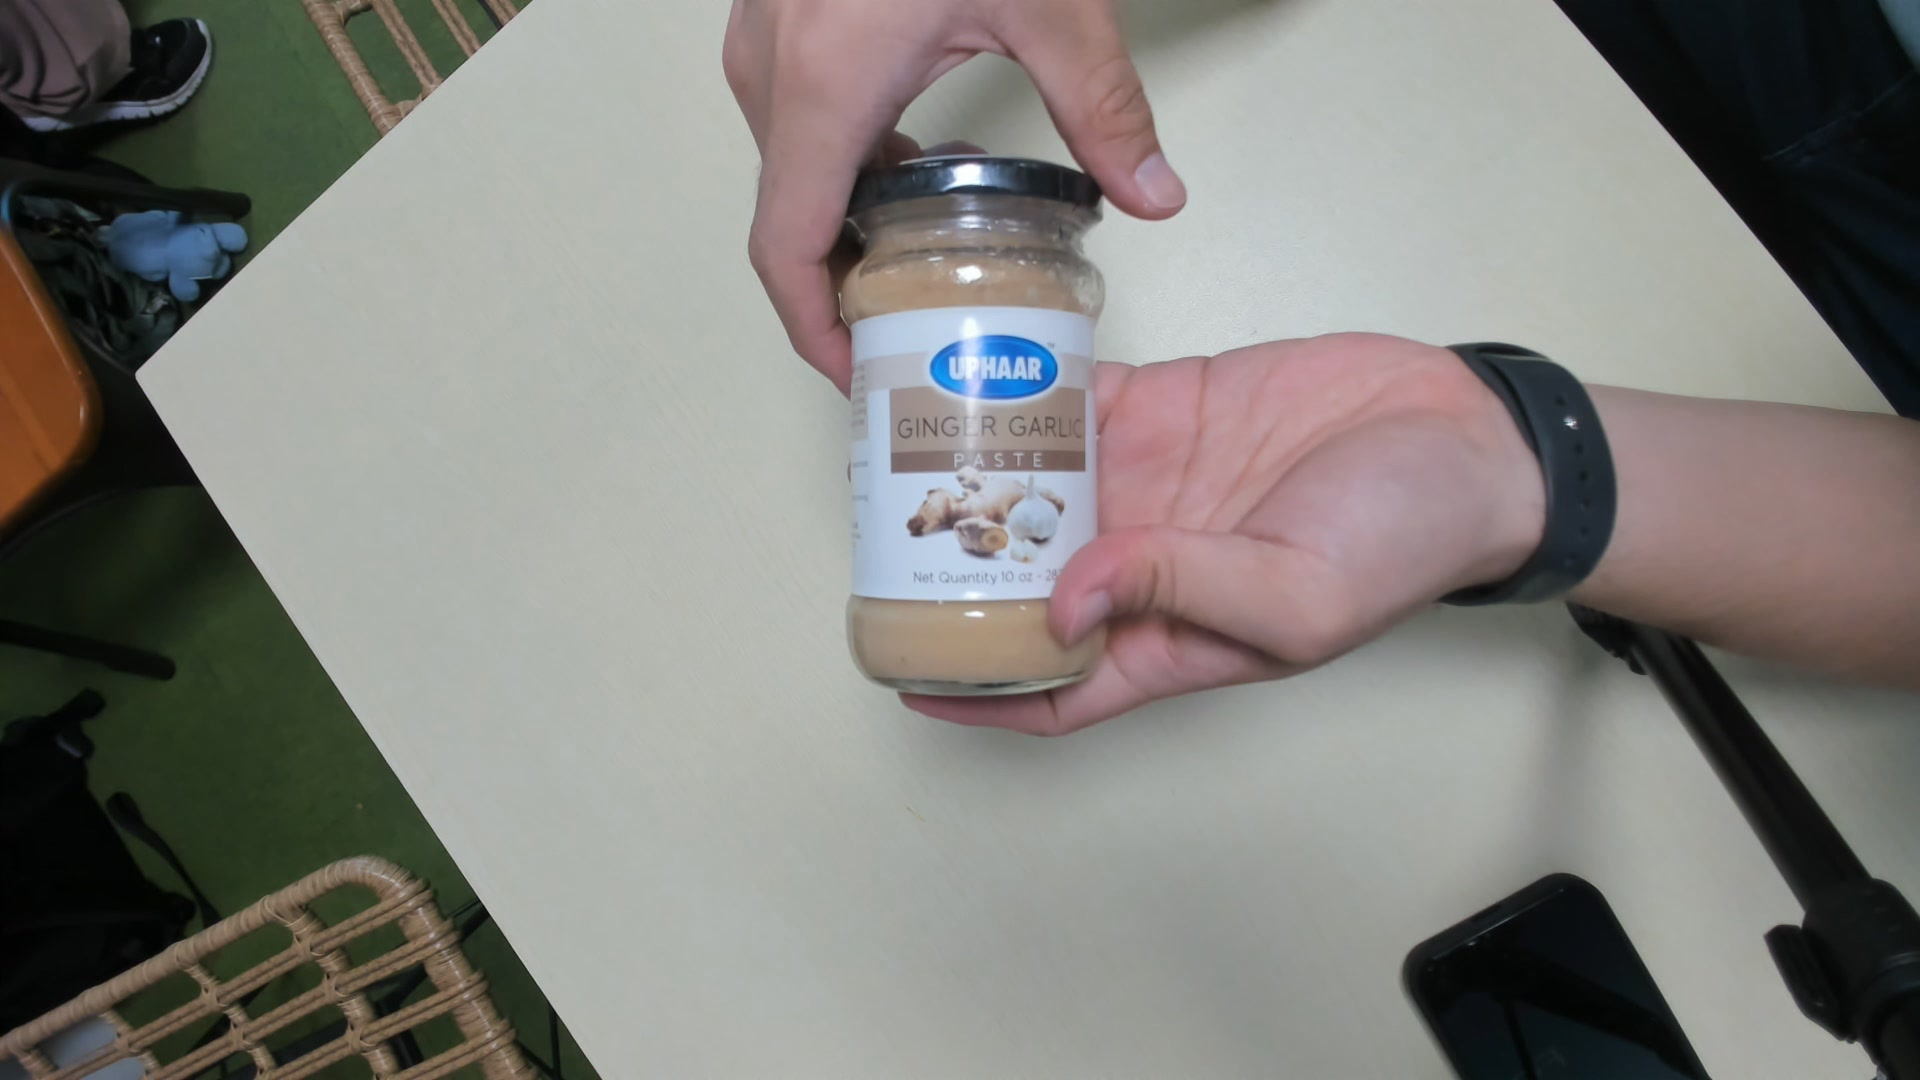OtherSauceDressing_200-299g_NonHalal_NonHealthy: (829, 157, 1116, 694)
